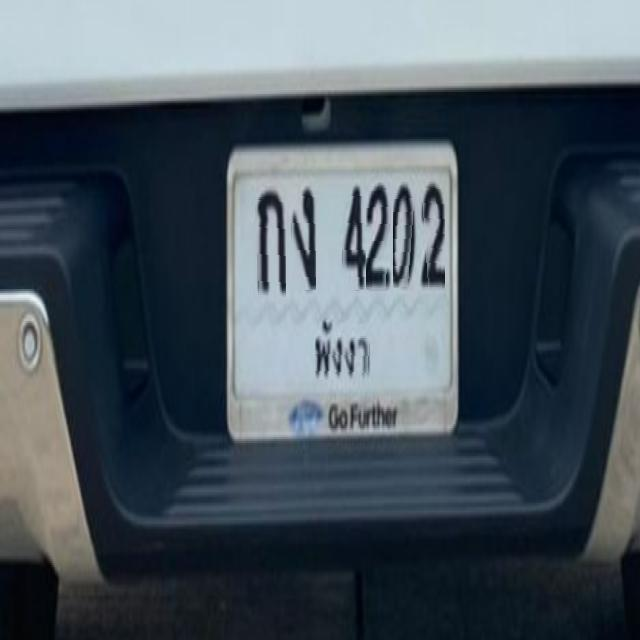0: (392, 185, 415, 288)
2: (419, 182, 447, 286), (368, 185, 389, 288)
4: (343, 187, 365, 289)
A01: (252, 182, 290, 298)
A07: (296, 184, 321, 298)
PNA: (306, 322, 378, 386)
